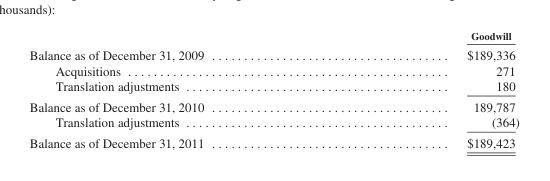table: (28, 28, 518, 149)
table column: (28, 28, 334, 149), (334, 28, 518, 149)
table column header: (28, 28, 518, 44)
table row: (28, 44, 518, 62), (28, 78, 518, 96), (28, 96, 518, 114), (28, 114, 518, 132), (28, 132, 518, 149), (28, 28, 518, 44), (28, 62, 518, 78)
